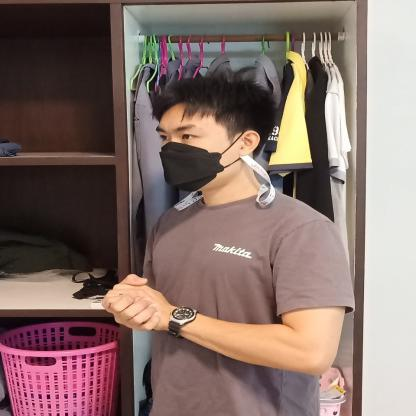Grieve: (51, 258, 274, 346)
